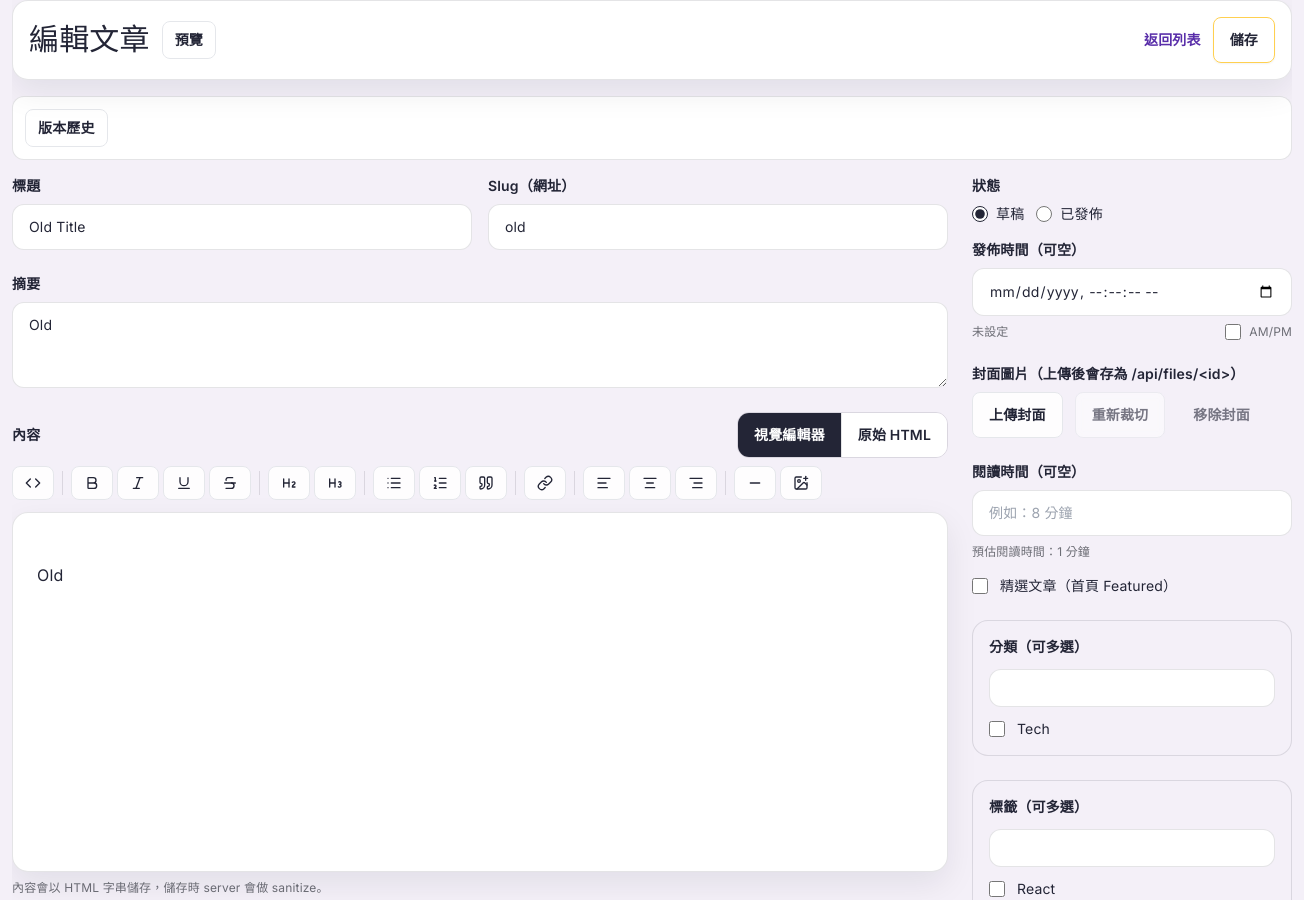
it: AdminPostForm › dirty-form preview flow › shows a save-first prompt instead of the preview modal when the form is dirty
Type " Edited" into the field labelled "標題".
click(242, 227); type(" Edited")  # box [12,204,472,250]
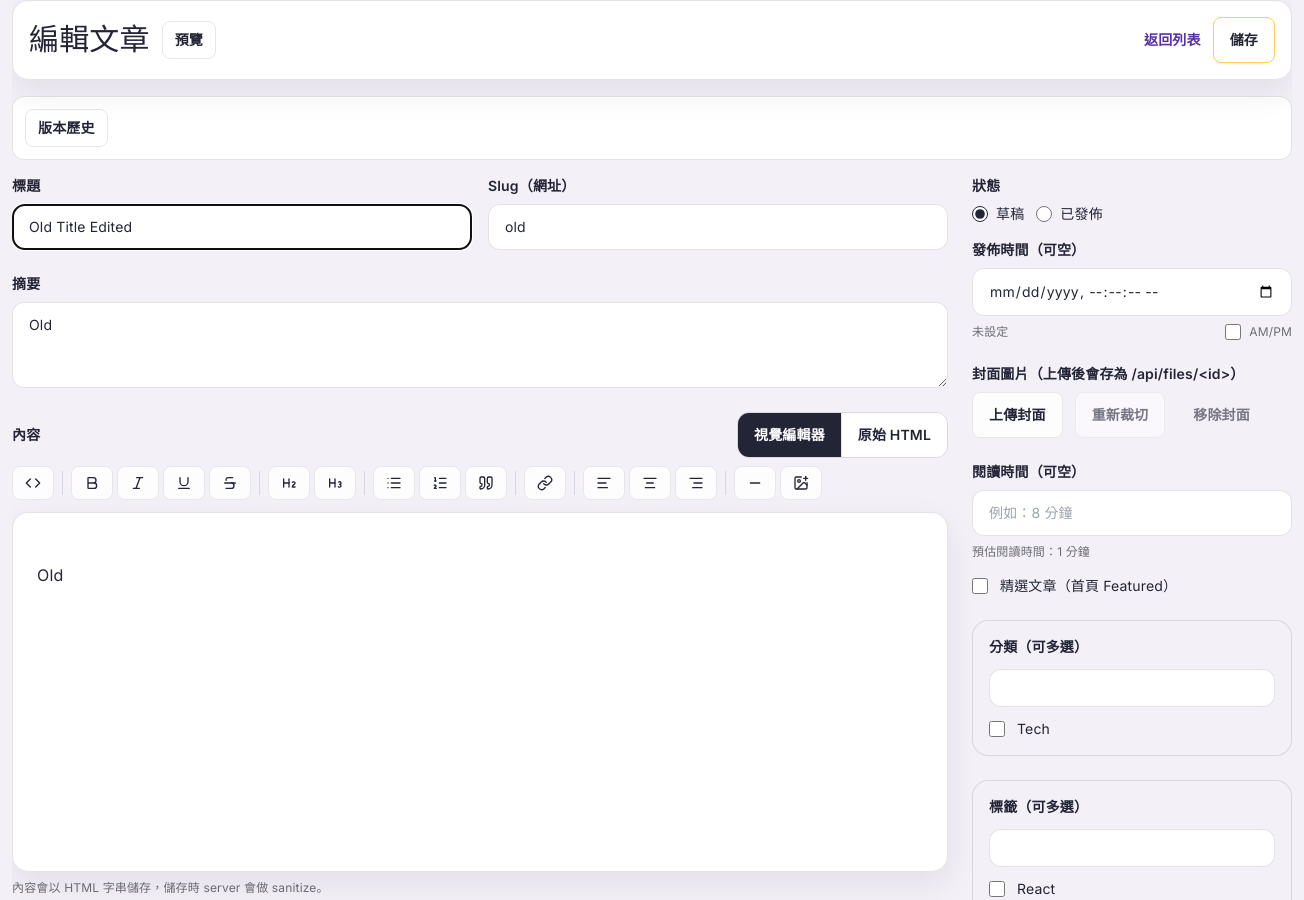
Click the button "預覽".
click(189, 40)  # box [162,21,216,59]
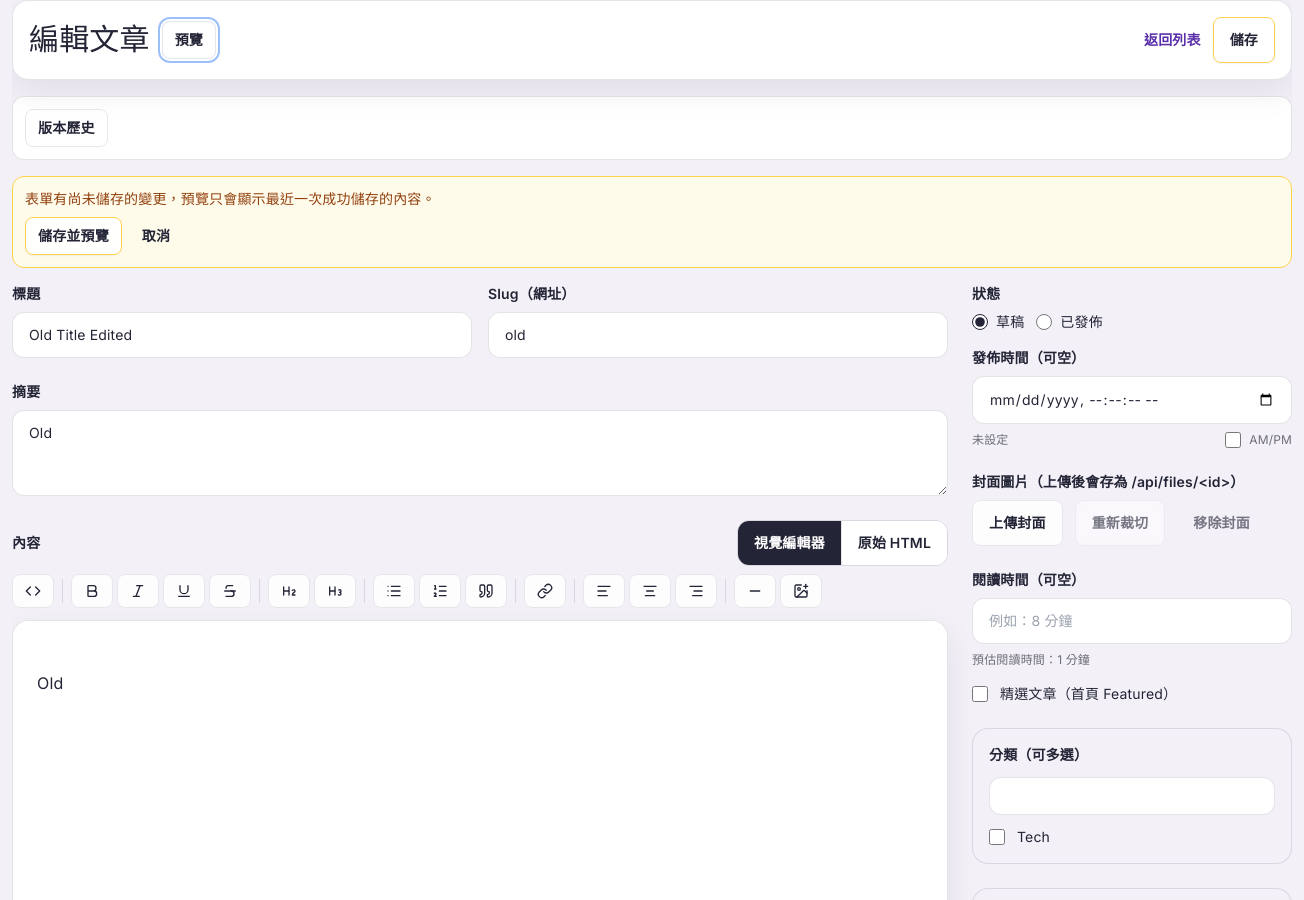
Now the button "儲存並預覽" is shown, box [25,217,122,255]
